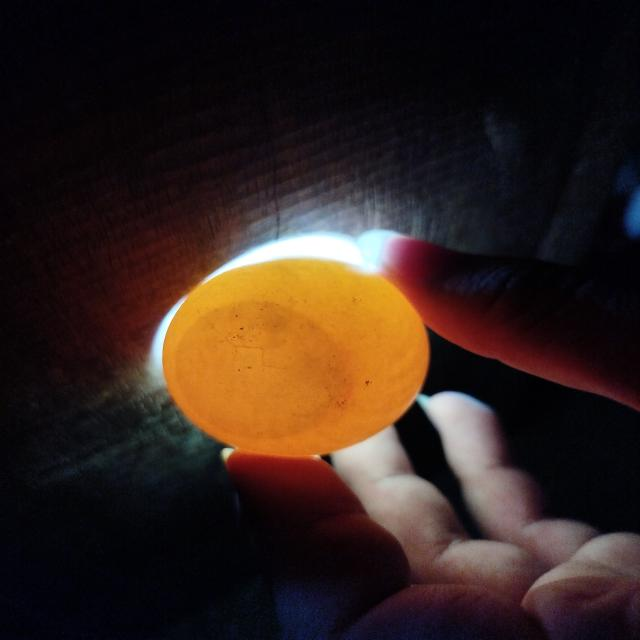Camara de Ar: (175, 301, 348, 439)
Rachadura: (211, 323, 281, 369)
